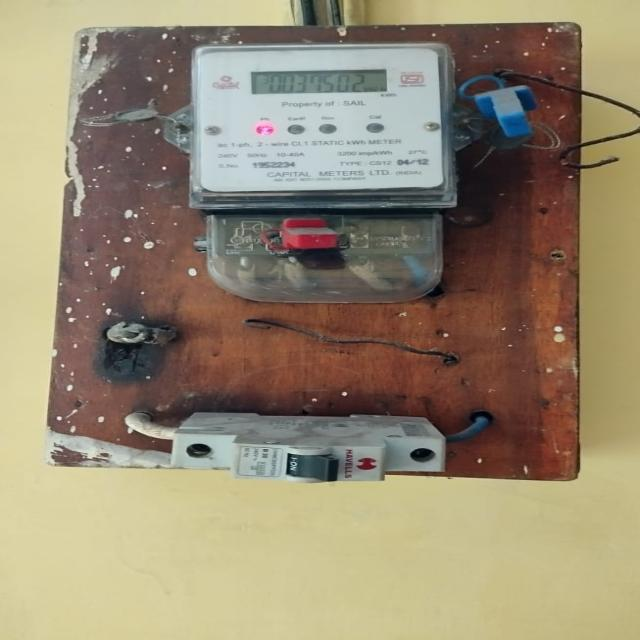display: (242, 66, 392, 98)
